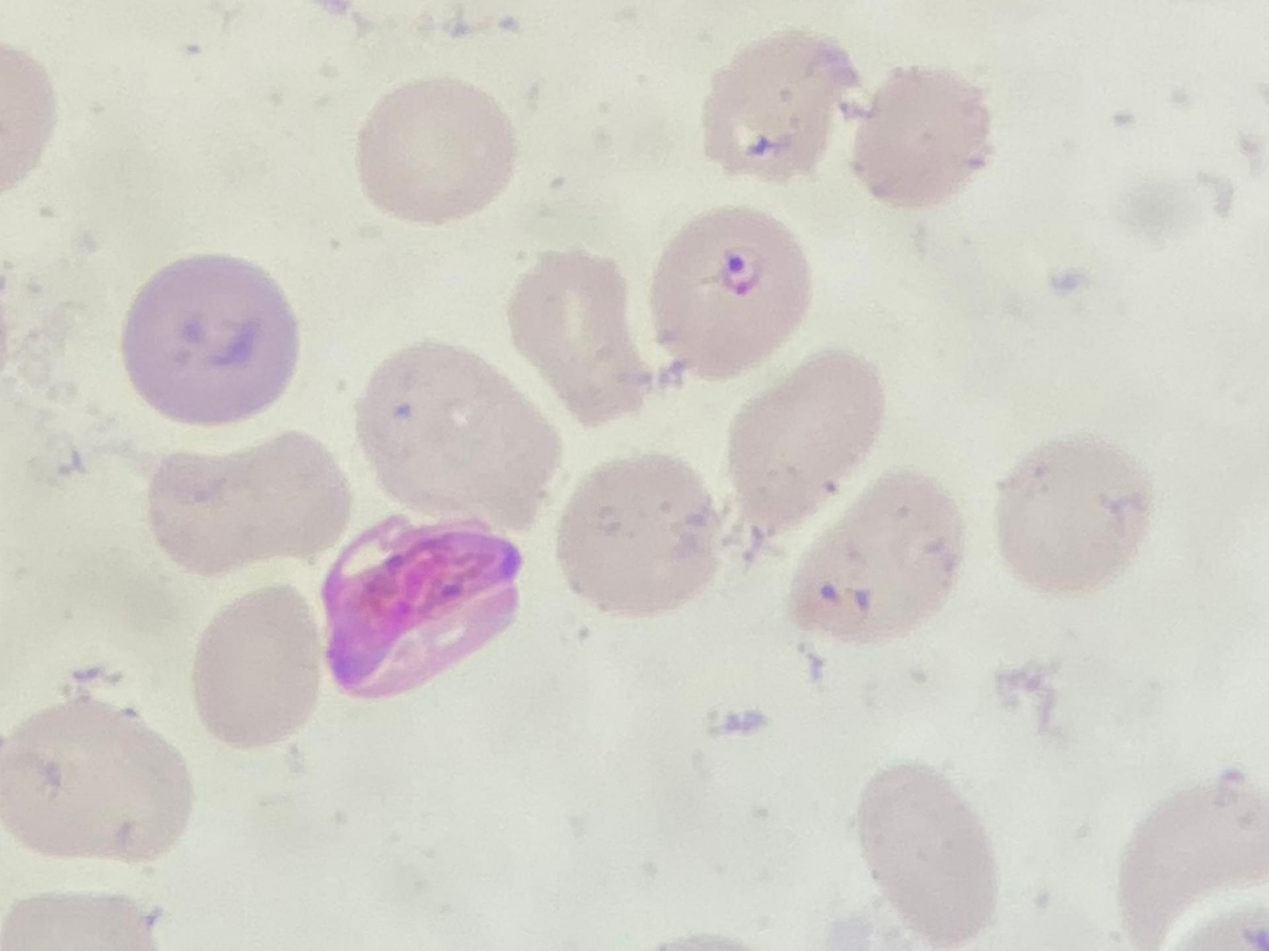Infected: (317, 521, 524, 697), (651, 209, 814, 371)
Uninfected: (354, 342, 560, 540), (0, 699, 190, 867), (122, 250, 298, 429), (150, 432, 356, 579), (727, 356, 885, 527), (507, 250, 656, 431), (795, 481, 970, 635), (1115, 777, 1269, 951), (856, 755, 996, 943), (555, 460, 722, 617), (993, 437, 1155, 596), (701, 25, 863, 181), (354, 76, 519, 226), (188, 590, 323, 749), (856, 65, 988, 209)
